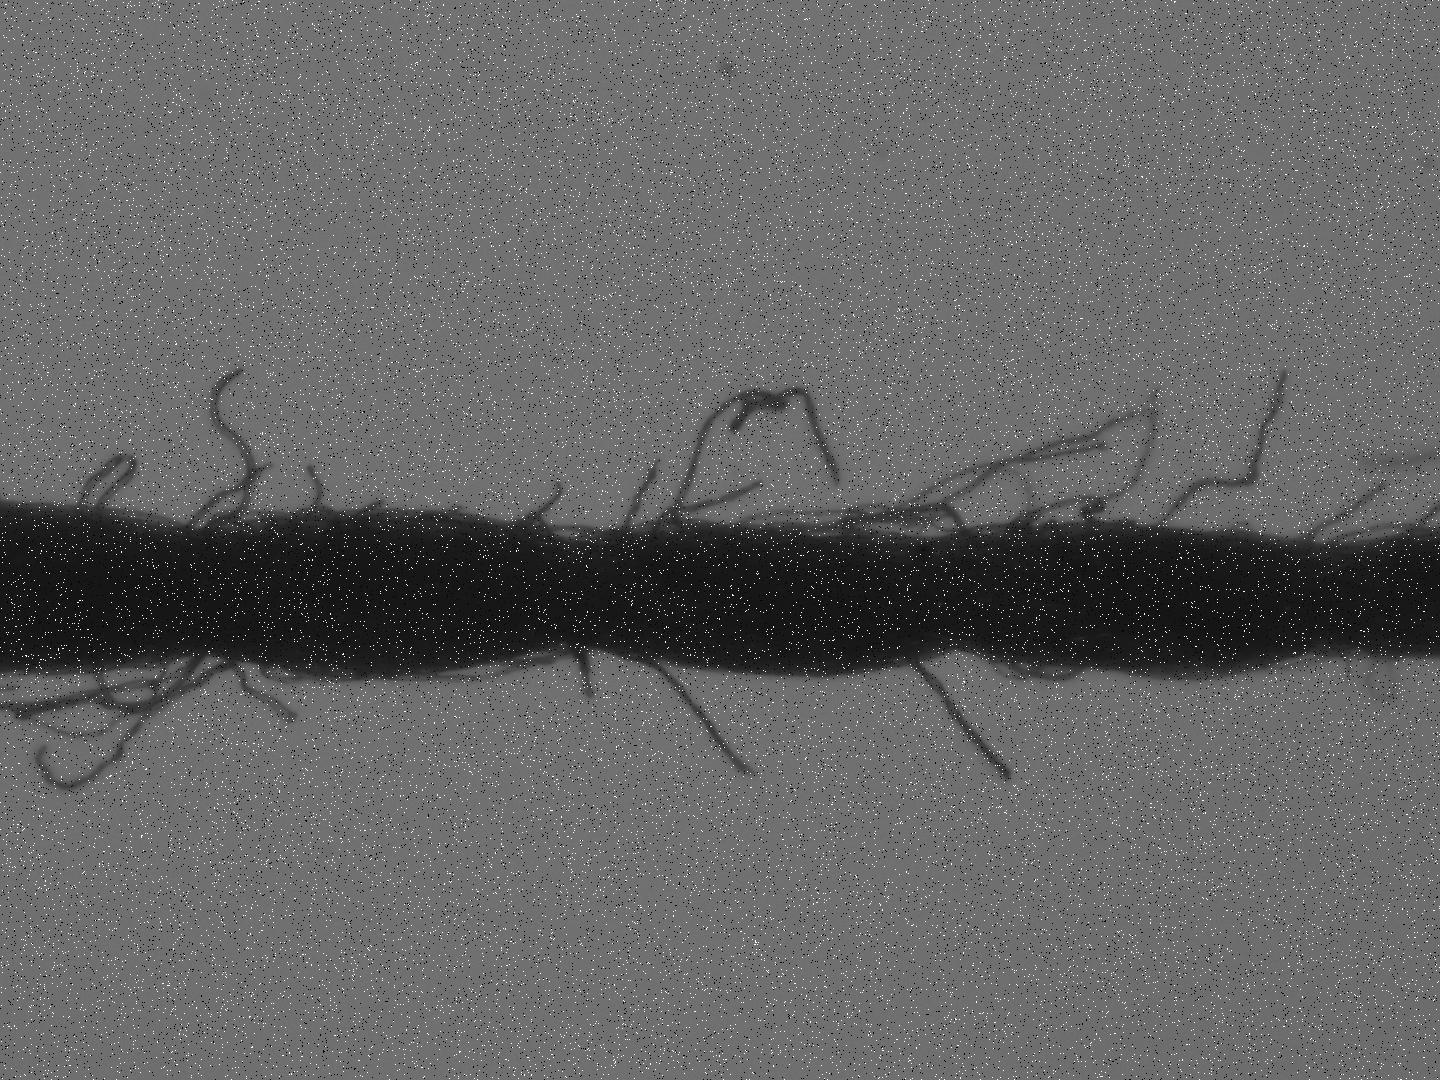loop_fiber: (84, 639, 220, 722), (992, 493, 1142, 547), (409, 647, 574, 690), (966, 635, 1092, 691), (832, 500, 967, 548), (67, 448, 141, 530), (493, 509, 608, 545), (1313, 520, 1430, 550), (1357, 649, 1404, 708)
protruding_fiber: (601, 642, 755, 779), (891, 642, 1023, 792), (617, 455, 663, 535)
